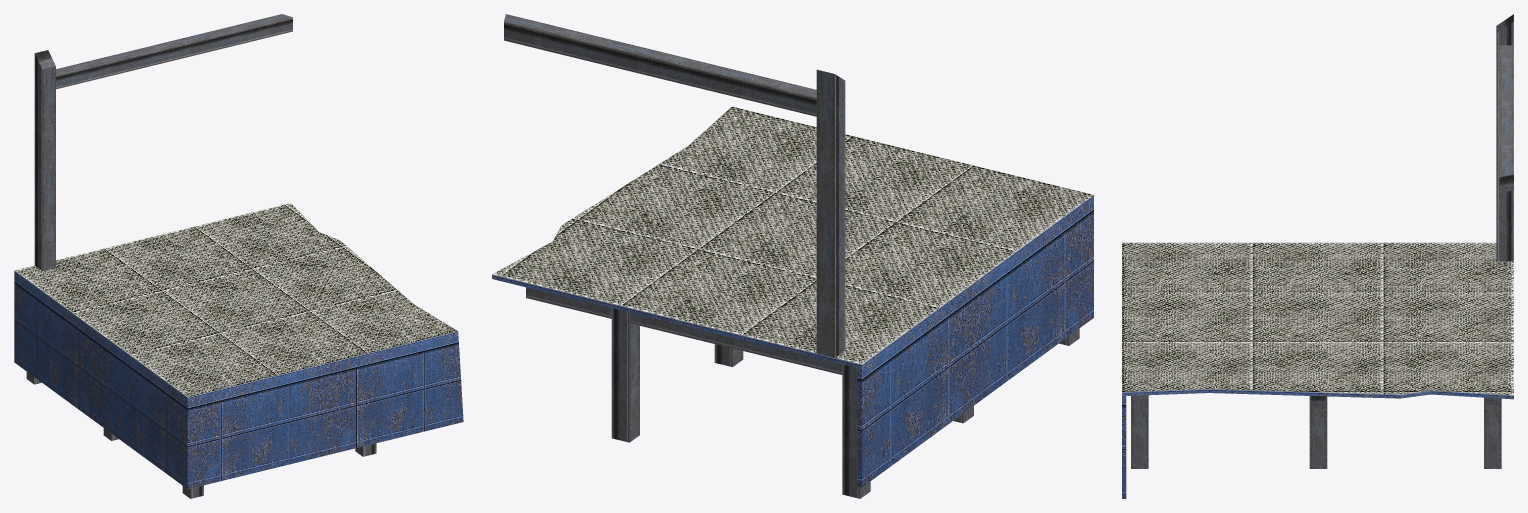
The model's file is Scaffolding B.fbx.
3 views of the same model, side by side, from view 1: azimuth 30°, elevation 25°; view 2: azimuth 150°, elevation 25°; view 3: azimuth 270°, elevation 25° (orthographic). The views are drawn at different scales.
Parts seen in each view (by area): view 1: object_59, object_47, object_46; view 2: object_59, object_47, object_46, object_8, object_32, object_20; view 3: object_59, object_46, object_47, object_7, object_2, object_8.
Boxes of the visible parts, x1=… form: object_59: x1=14, y1=203, x2=463, y2=489; object_47: x1=56, y1=14, x2=292, y2=89; object_46: x1=34, y1=50, x2=55, y2=270; object_59: x1=492, y1=106, x2=1093, y2=487; object_47: x1=504, y1=14, x2=816, y2=116; object_46: x1=816, y1=69, x2=845, y2=357; object_8: x1=611, y1=308, x2=639, y2=442; object_32: x1=526, y1=287, x2=842, y2=374; object_20: x1=842, y1=364, x2=870, y2=498; object_59: x1=1122, y1=242, x2=1513, y2=498; object_46: x1=1496, y1=14, x2=1513, y2=261; object_47: x1=1499, y1=45, x2=1513, y2=192; object_7: x1=1131, y1=395, x2=1148, y2=468; object_2: x1=1309, y1=396, x2=1327, y2=468; object_8: x1=1484, y1=397, x2=1501, y2=468.
Size of the model in its own units: 409 by 450 by 444.
